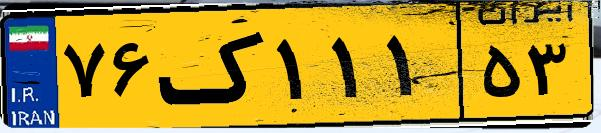1: (270, 28, 330, 110), (385, 28, 445, 110), (330, 28, 385, 110)
3: (525, 38, 570, 115)
5: (475, 38, 525, 113)
6: (110, 28, 158, 98)
7: (57, 26, 110, 100)
ک: (158, 12, 270, 120)
